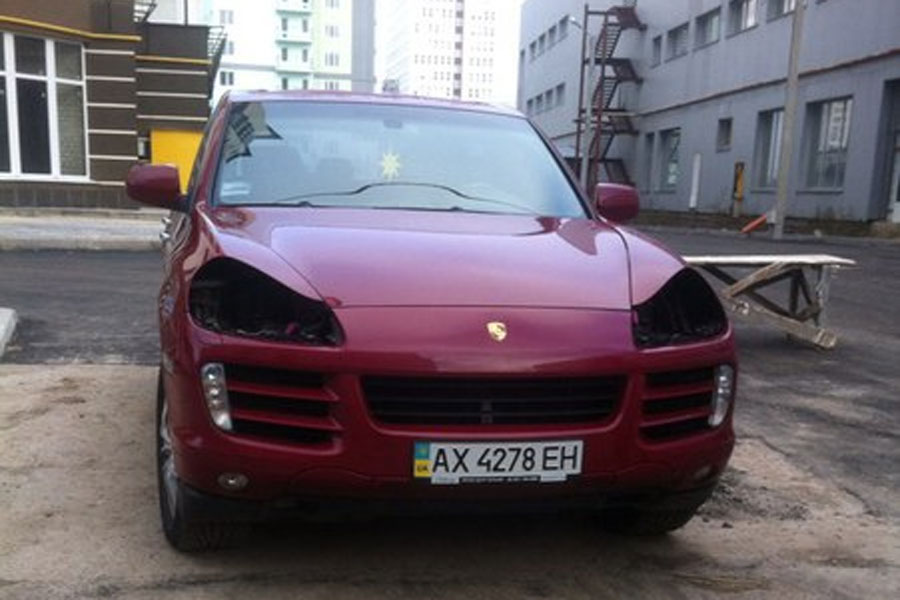car: (124, 88, 738, 555)
plate: (413, 436, 585, 481)
